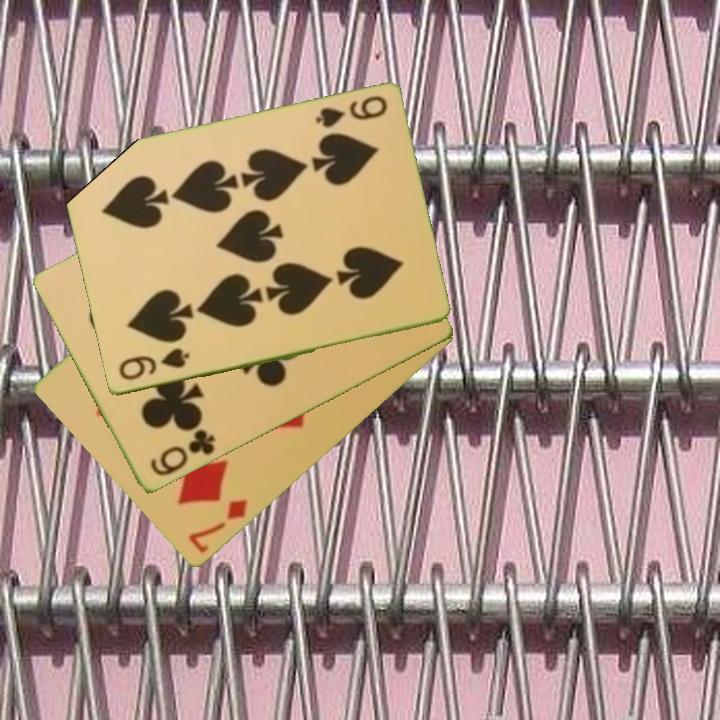6c: (146, 426, 219, 480)
7d: (185, 496, 251, 557)
9s: (311, 92, 390, 132), (114, 345, 193, 384)
